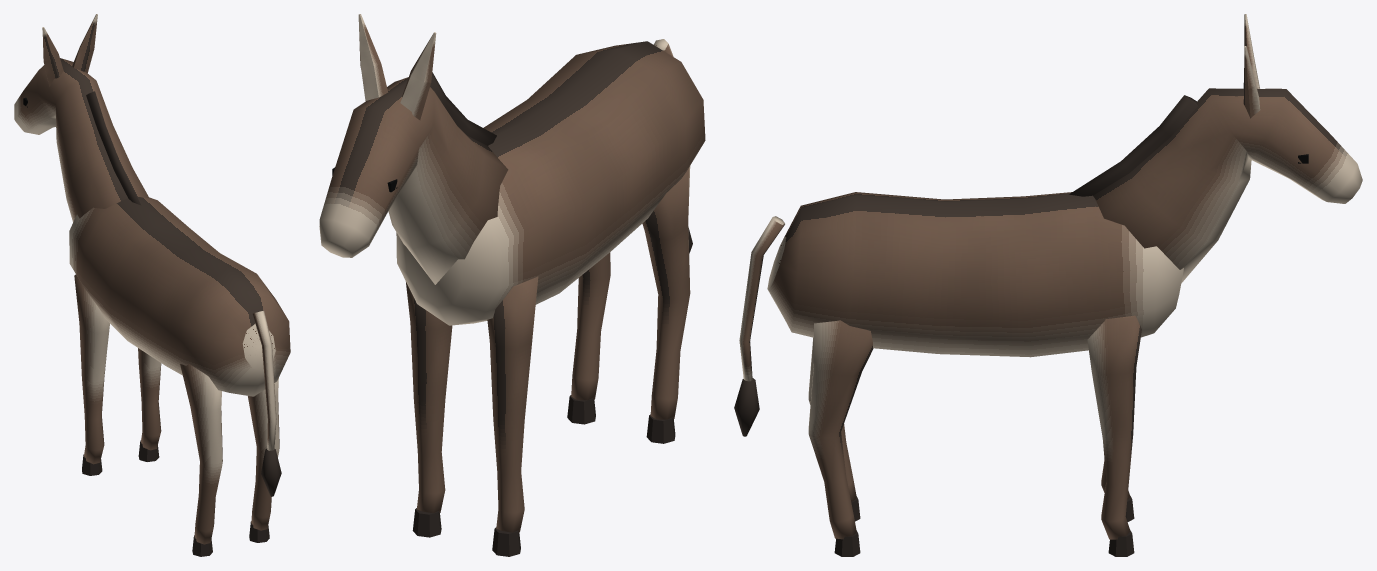
File: donkey_brown.glb
3 renders of one model, left to right at view 1: azimuth 30°, elevation 25°; view 2: azimuth 150°, elevation 25°; view 3: azimuth 270°, elevation 25°, orthographic. The views are drawn at different scales.
Visible parts, largest first — view 1: Body, Leg_HL, Leg_FL, Hair, Leg_HR, Leg_FR; view 2: Body, Leg_FL, Leg_HL, Leg_FR, Leg_HR, Hair; view 3: Body, Leg_HR, Leg_FR, Hair, Leg_HL.
Boxes of the visible parts, left/top/right/bottom form: Body: left=14, top=14, right=290, bottom=396; Leg_HL: left=180, top=363, right=222, bottom=556; Leg_FL: left=74, top=274, right=109, bottom=475; Hair: left=86, top=91, right=281, bottom=496; Leg_HR: left=248, top=378, right=279, bottom=542; Leg_FR: left=138, top=348, right=161, bottom=461; Body: left=319, top=14, right=705, bottom=325; Leg_FL: left=487, top=276, right=538, bottom=556; Leg_HL: left=642, top=166, right=690, bottom=443; Leg_FR: left=406, top=282, right=452, bottom=537; Leg_HR: left=567, top=252, right=610, bottom=424; Hair: left=430, top=39, right=692, bottom=253; Body: left=767, top=14, right=1362, bottom=357; Leg_HR: left=808, top=320, right=873, bottom=556; Leg_FR: left=1087, top=315, right=1141, bottom=556; Hair: left=734, top=95, right=1197, bottom=436; Leg_HL: left=808, top=337, right=860, bottom=521.
Size of the model in its own units: 0.4585 by 1.87 by 2.12.
Materials: 5 (2 with a texture image).
